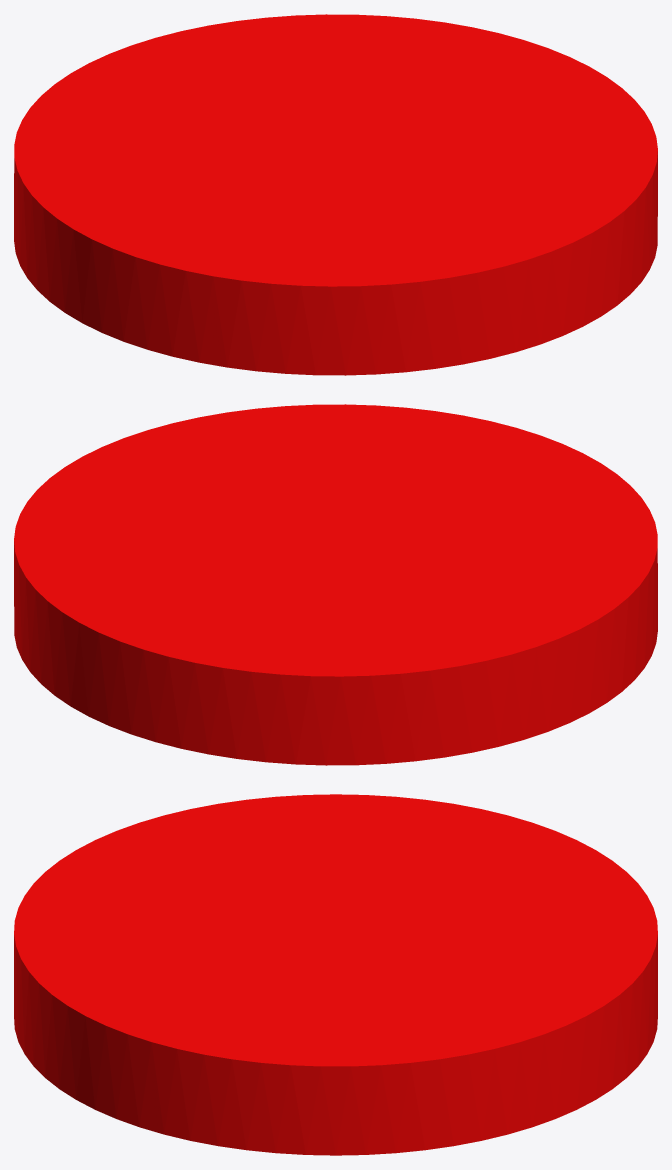
Rendered from lidar_top_fastbot_2.dae.
3 views of the same model, one above another, from view 1: azimuth 30°, elevation 25°; view 2: azimuth 150°, elevation 25°; view 3: azimuth 270°, elevation 25° (orthographic).
Visible parts, largest first — view 1: lidar_top; view 2: lidar_top; view 3: lidar_top.
Part boxes in pixels (x1,y1,x2,y2): lidar_top: [14, 14, 657, 375]; lidar_top: [14, 404, 657, 765]; lidar_top: [14, 794, 657, 1155].
Bounding box in the file's own units: 65.6 × 65.58 × 10.
1 material, 1 textured.
